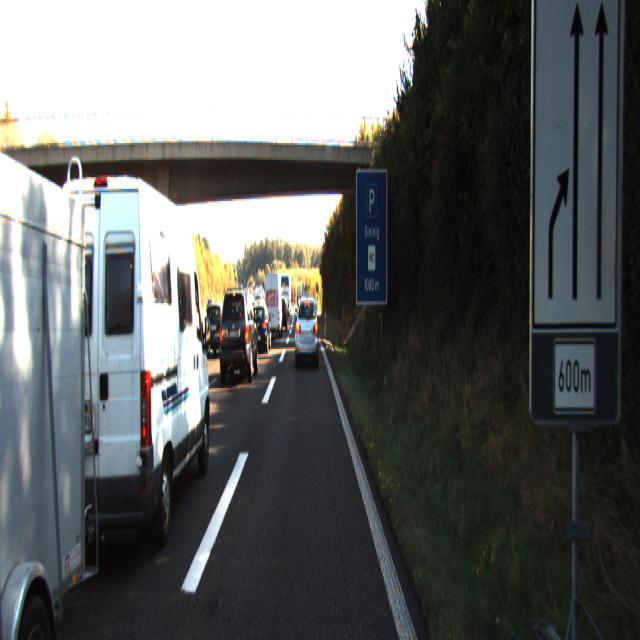Car: (50, 174, 215, 574), (0, 119, 111, 639), (218, 289, 258, 387), (294, 293, 318, 366), (207, 307, 235, 363), (263, 270, 283, 338), (250, 302, 272, 352)
